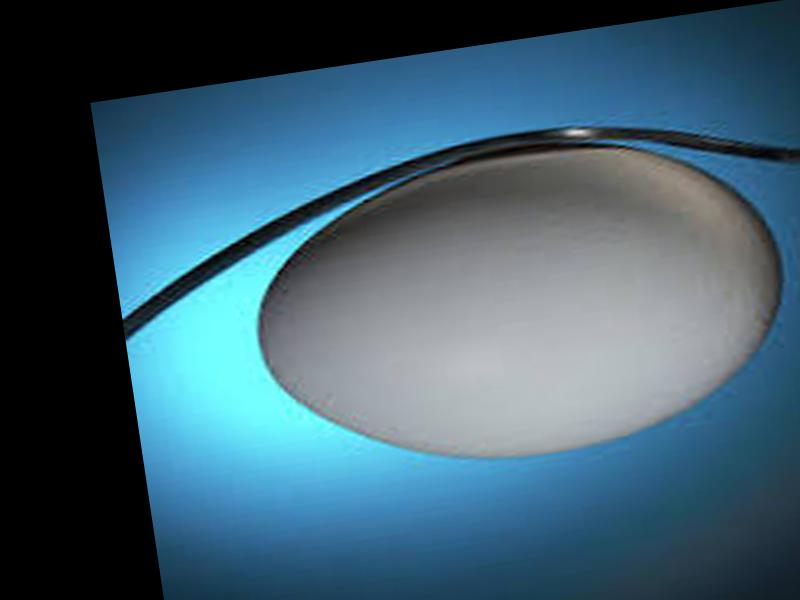Eggs: (237, 116, 800, 489)
